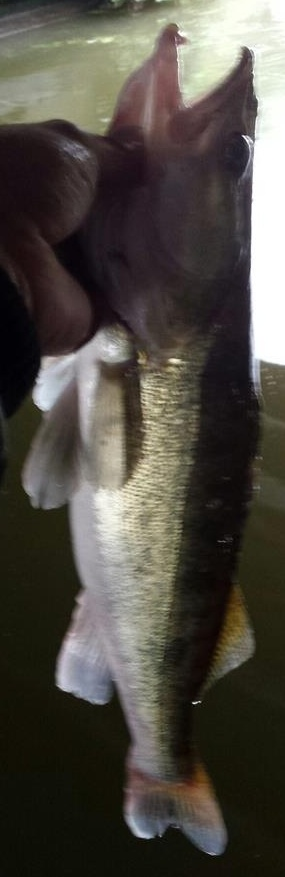Sander lucioperca: (20, 20, 265, 857)
